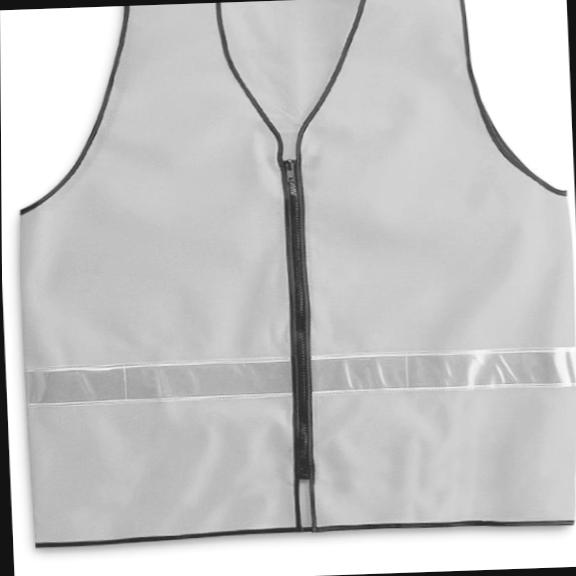safety_vest: (4, 0, 576, 550)
